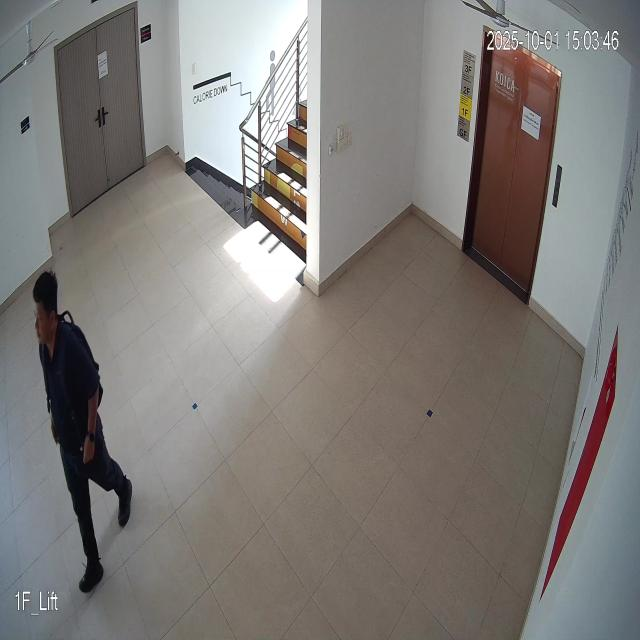face: (30, 257, 61, 350)
